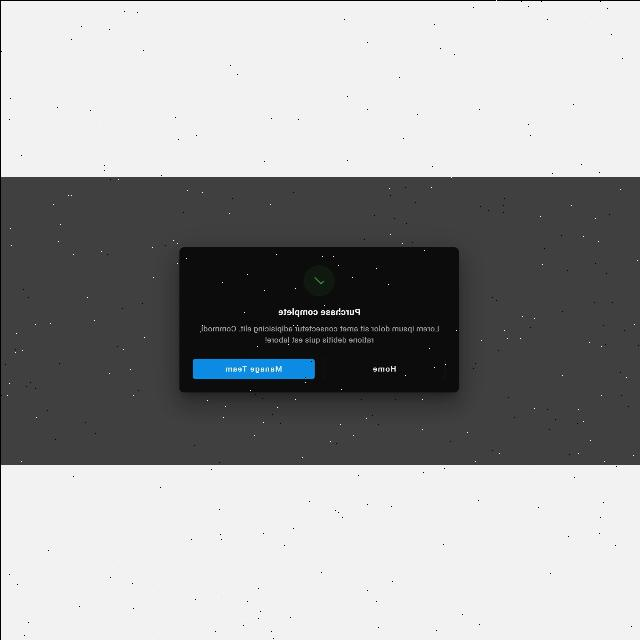QLabel: (198, 324, 438, 332), (263, 335, 373, 343), (278, 307, 360, 317), (222, 363, 284, 372), (371, 363, 397, 372)
VBtn: (192, 358, 314, 378), (322, 358, 444, 378)
VDialog: (176, 244, 460, 394)
VImg: (302, 265, 334, 295)
